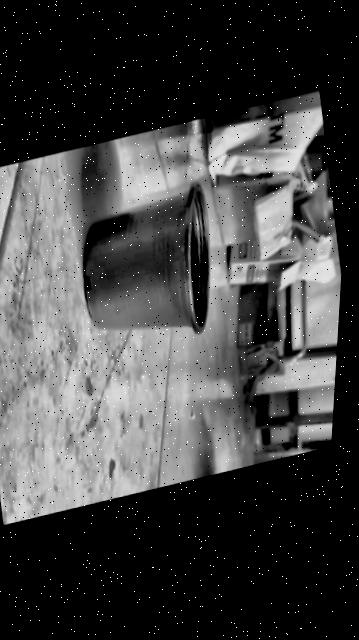pot: (65, 176, 230, 361)
